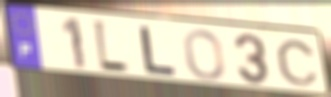1: (61, 16, 89, 72)
3: (232, 32, 270, 87)
C: (274, 38, 321, 87)
L: (91, 18, 132, 76), (138, 25, 179, 78)
O: (182, 28, 227, 81)
